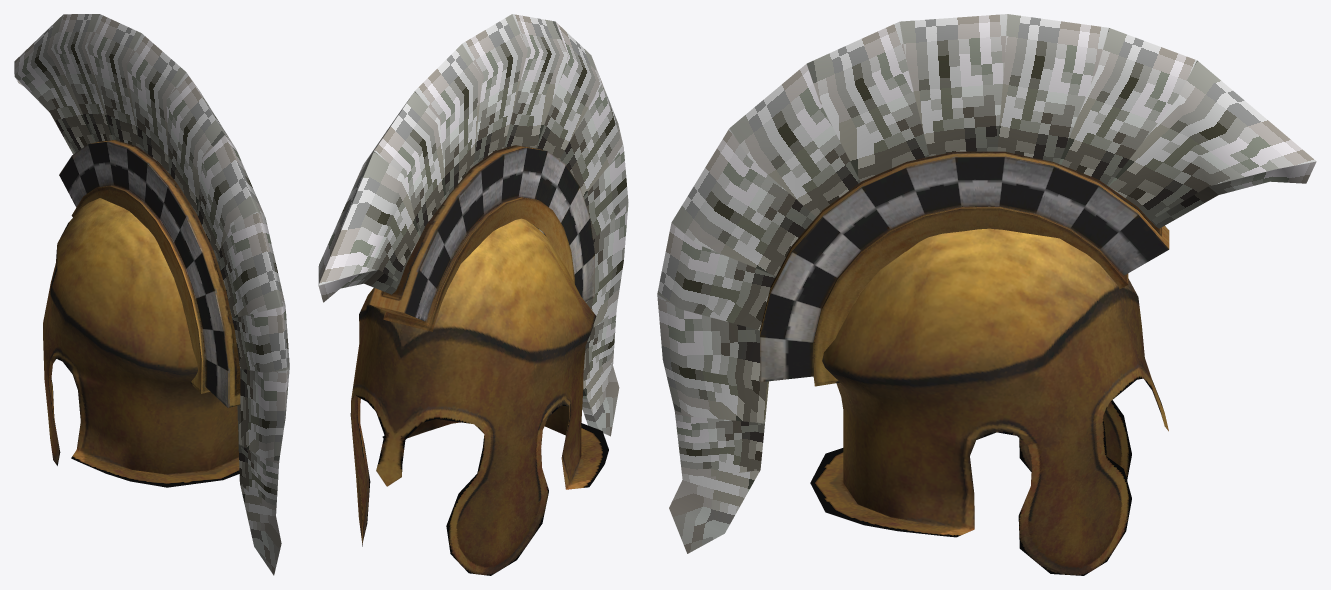
The model's file is helm_hele_chalcidean_a4.glb.
3 renders of one model, left to right at view 1: azimuth 30°, elevation 25°; view 2: azimuth 150°, elevation 25°; view 3: azimuth 270°, elevation 25°, orthographic. The views are drawn at different scales.
Visible parts, largest first — view 1: helm_hele_chalcidean_a4_part2, helm_hele_chalcidean_a4_part0, helm_hele_chalcidean_a4_part1; view 2: helm_hele_chalcidean_a4_part0, helm_hele_chalcidean_a4_part2, helm_hele_chalcidean_a4_part1; view 3: helm_hele_chalcidean_a4_part2, helm_hele_chalcidean_a4_part0, helm_hele_chalcidean_a4_part1.
Boxes of the visible parts, x1,y1,x2,y2 form: helm_hele_chalcidean_a4_part2: (14, 14, 289, 575); helm_hele_chalcidean_a4_part0: (43, 198, 239, 487); helm_hele_chalcidean_a4_part1: (59, 139, 240, 407); helm_hele_chalcidean_a4_part0: (350, 218, 608, 575); helm_hele_chalcidean_a4_part2: (318, 14, 628, 436); helm_hele_chalcidean_a4_part1: (369, 145, 594, 331); helm_hele_chalcidean_a4_part2: (657, 14, 1316, 553); helm_hele_chalcidean_a4_part0: (810, 228, 1168, 575); helm_hele_chalcidean_a4_part1: (760, 151, 1169, 386).
Size of the model in its own units: 0.4765 by 1.1 by 1.22.
3 materials, 3 textured.
